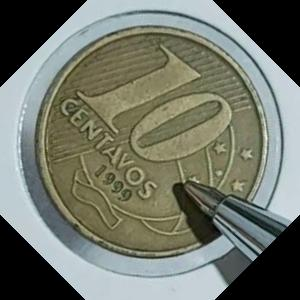10 cent: (34, 25, 268, 258)
